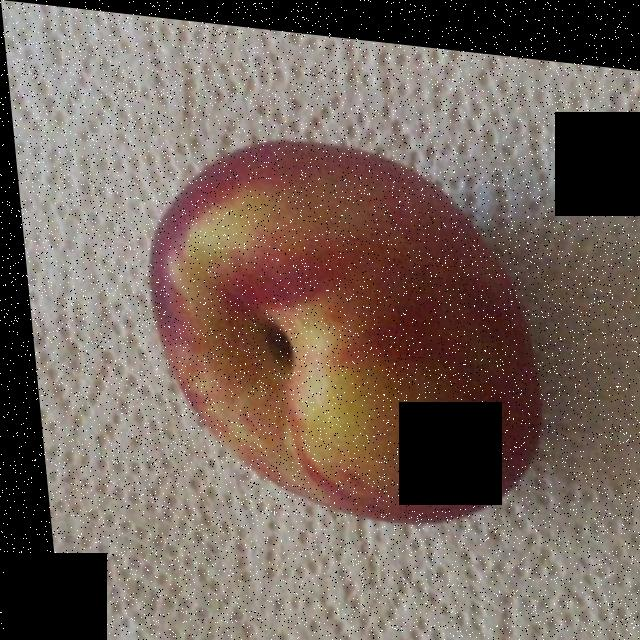nectarine: (157, 134, 526, 513)
